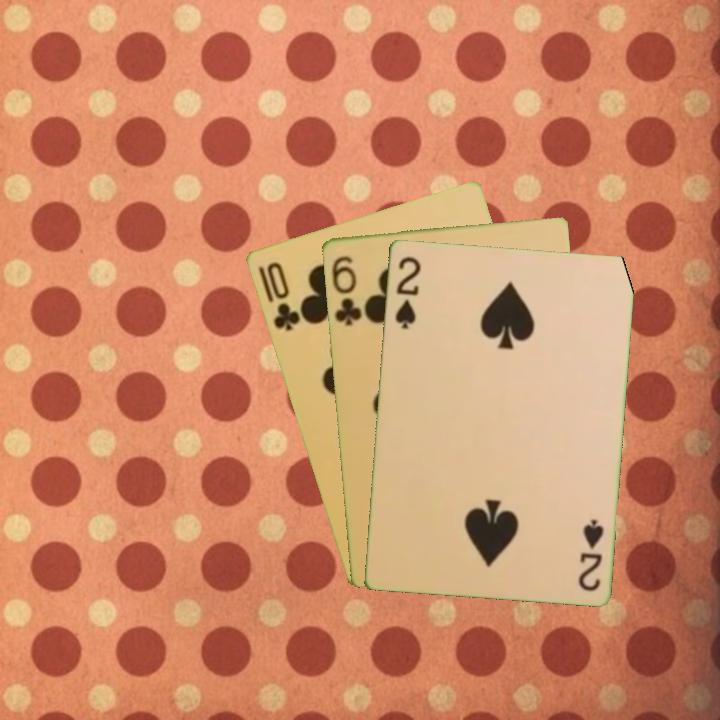10c: (263, 258, 303, 334)
2s: (391, 252, 423, 332), (574, 515, 606, 593)
6c: (328, 252, 364, 328)
